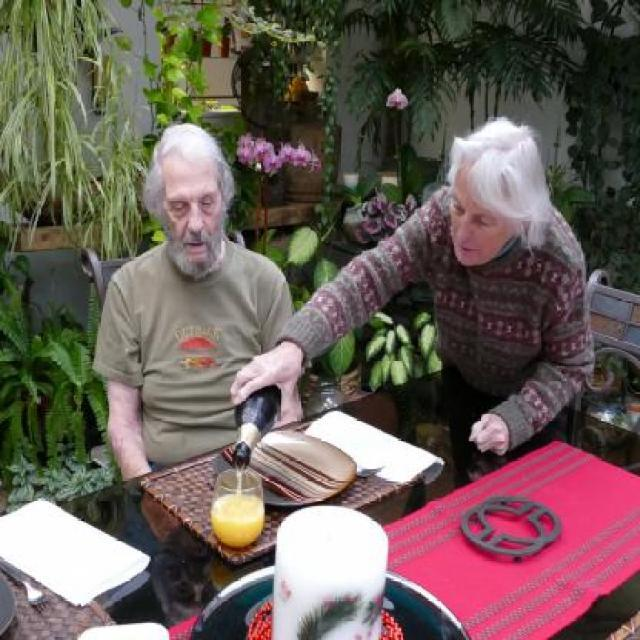Juice: (209, 488, 266, 554)
